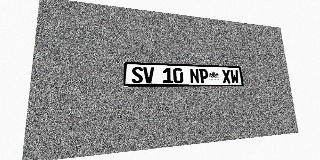plate: (123, 62, 244, 87)
